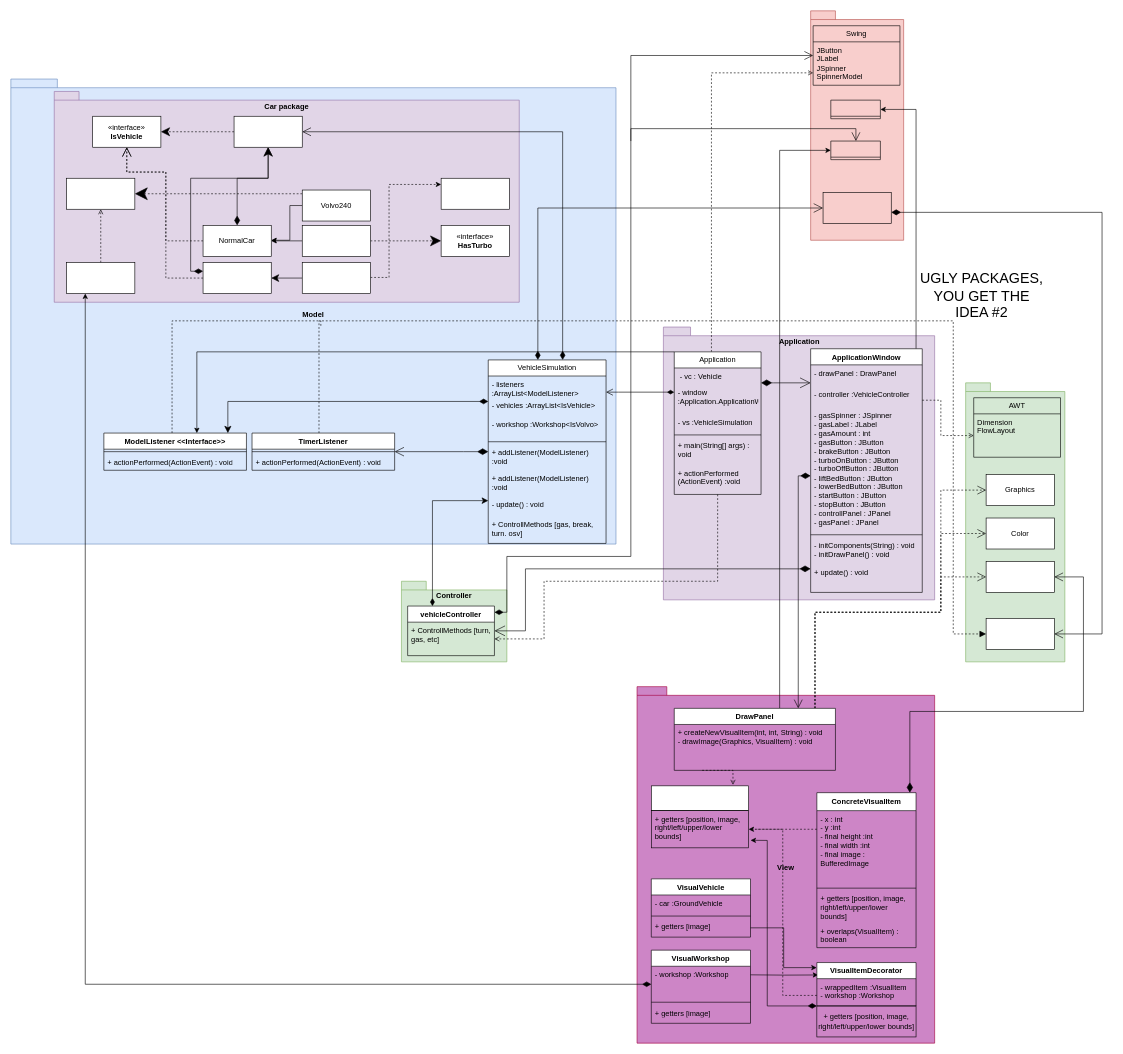
Some shapes in this 1123 by 1054 pixel diagram are drawn without their labels. Each missing label, with the centre of its shape:
"ActionListener" goes at point 1019,633.
"BufferedImage" goes at point 1019,576.
"GroundVehicle" goes at point 267,131.
"JFrame" goes at point 855,109.
"JPanel" goes at point 855,150.
"Saab95" goes at point 336,240.
"ScaniaV8" goes at point 336,278.
"Timer" goes at point 856,208.
"Truck" goes at point 236,278.
"Workshop <T>" goes at point 100,278.
"«interface» IsVolvo" goes at point 100,193.
"«interface» TIppable" goes at point 475,193.
"«interface» VisualItem" goes at point 700,798.
